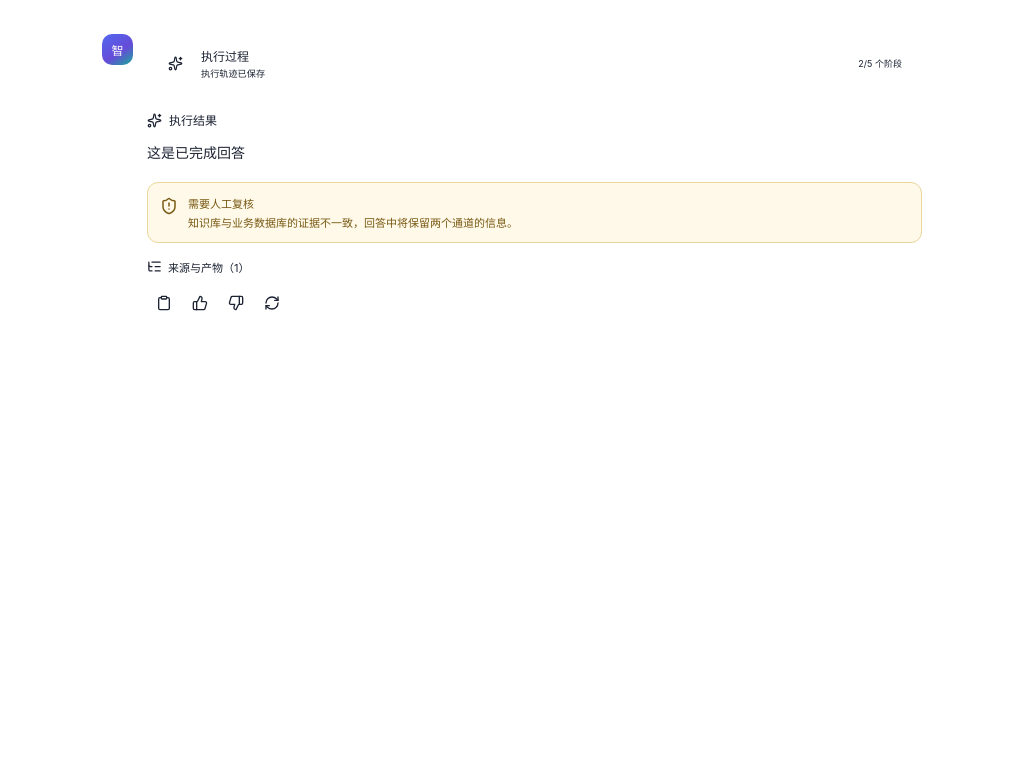
Test: MessageList › 以五阶段白盒时间线展示流程版本、结果数量、耗时和安全边界
Click the text "执行过程" at (225, 56), box top-left (201, 48), bottom-right (249, 64)
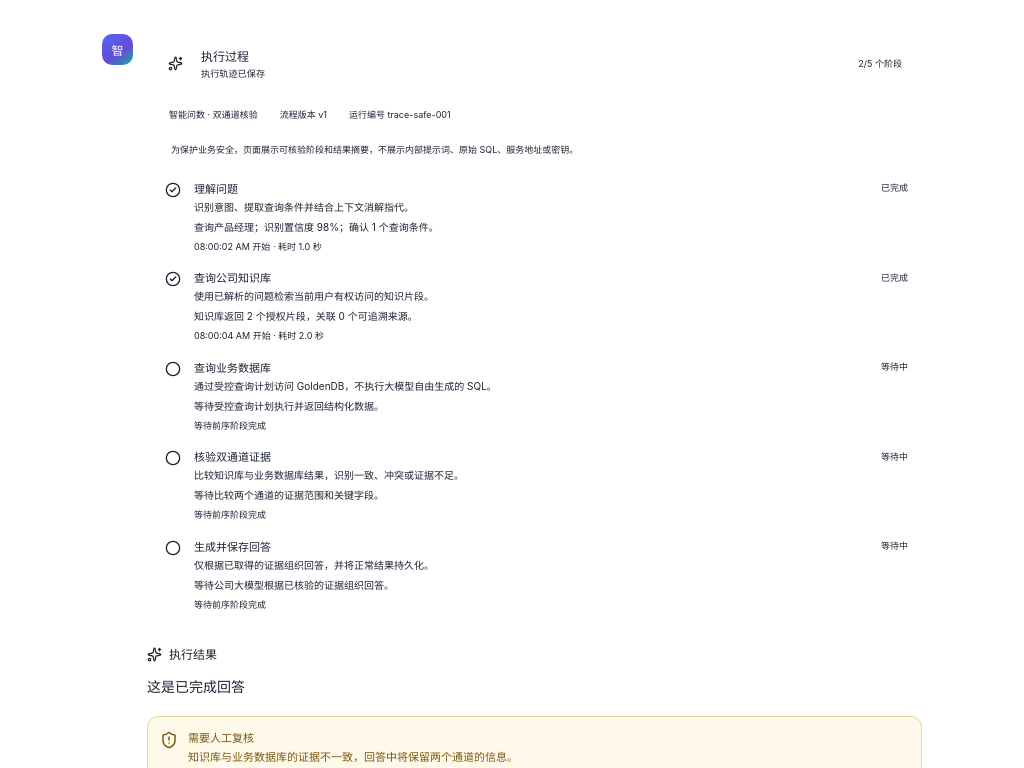
Check: the text "智能问数 · 双通道核验" is shown, box top-left (169, 109), bottom-right (258, 120)
Check: the text "流程版本 v1" is shown, box top-left (280, 109), bottom-right (327, 120)
Check: the text "运行编号 trace-safe-001" is shown, box top-left (349, 109), bottom-right (451, 120)
